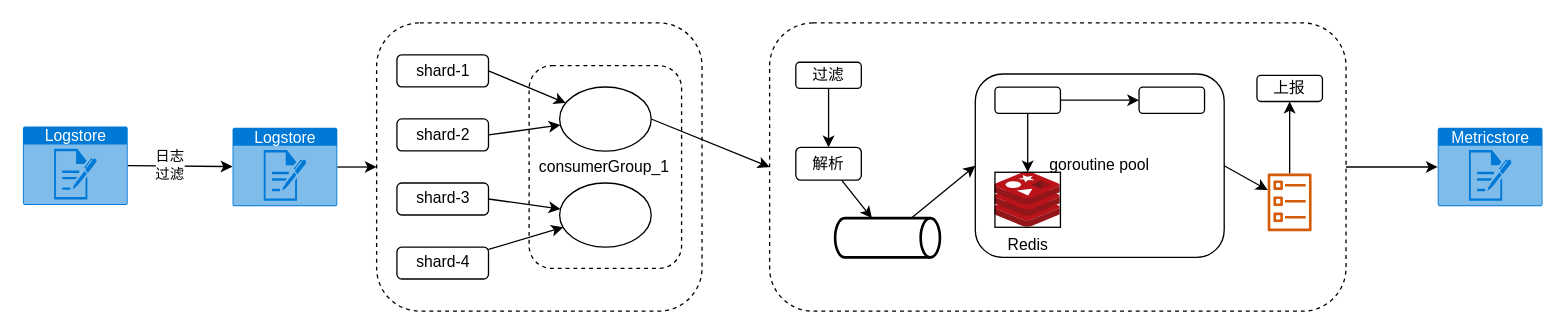
Image size: 1564x334. Some labels were removed from this diagram. Here are the shapes that lost their labels. From the top down, the centre of each, then its label:
At [604,118]: "consumer-A".
At [1027,99]: "计数".
At [1171,99]: "本地缓存".
At [604,214]: "consumer-B".
At [1289,202]: "timer task".
At [887,237]: "channel".
